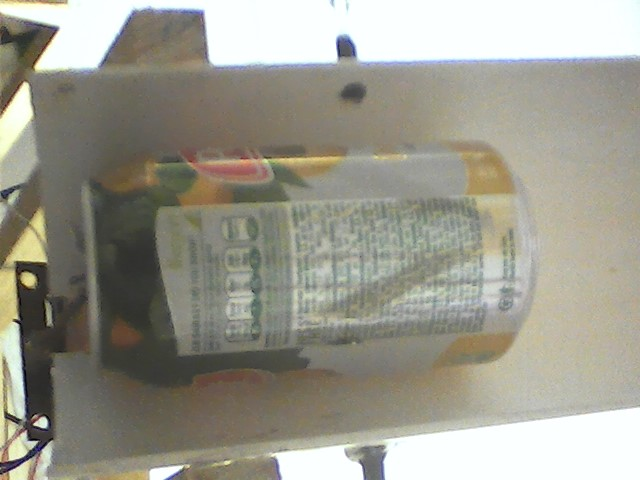lata: (78, 138, 548, 403)
